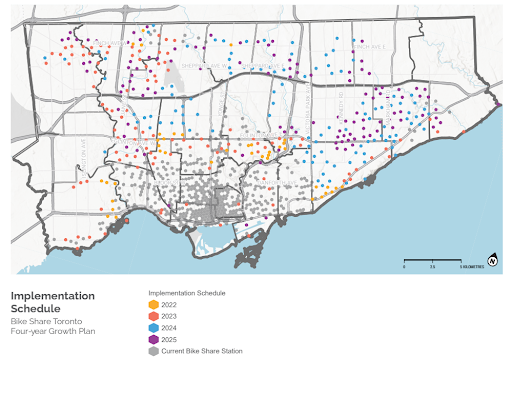

The dashboard page shown, as its layout file describes it:
{"tool":"tableau","page":{"name":"Network","canvas":[800,800],"ordinal":2},"visuals":[{"type":"worksheet","title":"Station Network Expansion","mark":"Automatic","box":[8,8,624,784]},{"type":"legend","title":"Station Network Expansion","param":"[federated.1v36ve20wko5vi1boiak102ub6uy].[yr:first_use:ok]","box":[632,8,160,126]},{"type":"parameter","param":"[Parameters].[Parameter 1]","box":[632,134,160,75]}]}

Visuals, with their boxes on the page's 800x800 design canvas (x1, y1, x2, y2). These are canvas units, not pixel positions in the 512x397 screenshot, which may show the page scaled, cropped or inside an application window:
"Station Network Expansion" worksheet: (left=8, top=8, right=632, bottom=792)
"Station Network Expansion" legend: (left=632, top=8, right=792, bottom=134)
parameter: (left=632, top=134, right=792, bottom=209)
